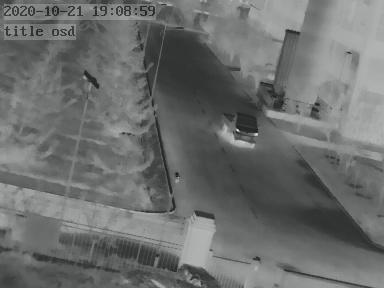vehicle: (221, 108, 261, 145)
